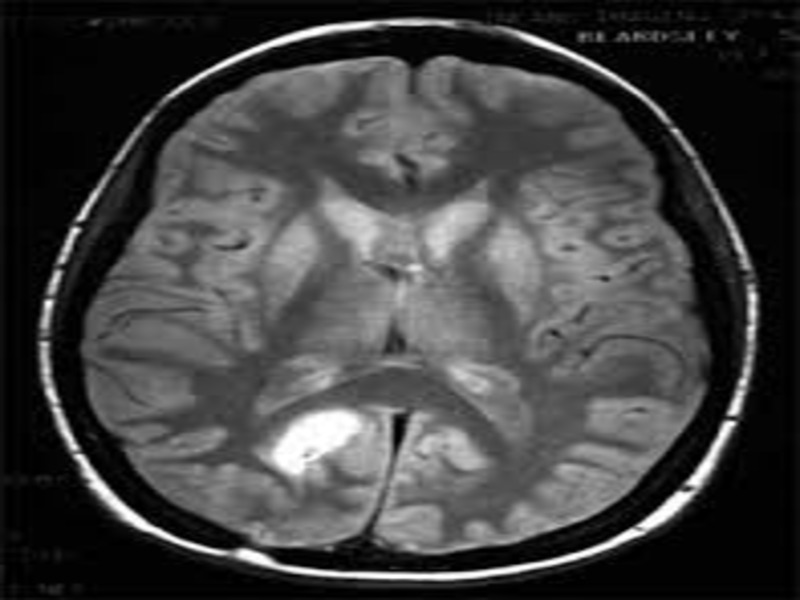tumor: (263, 400, 369, 492)
